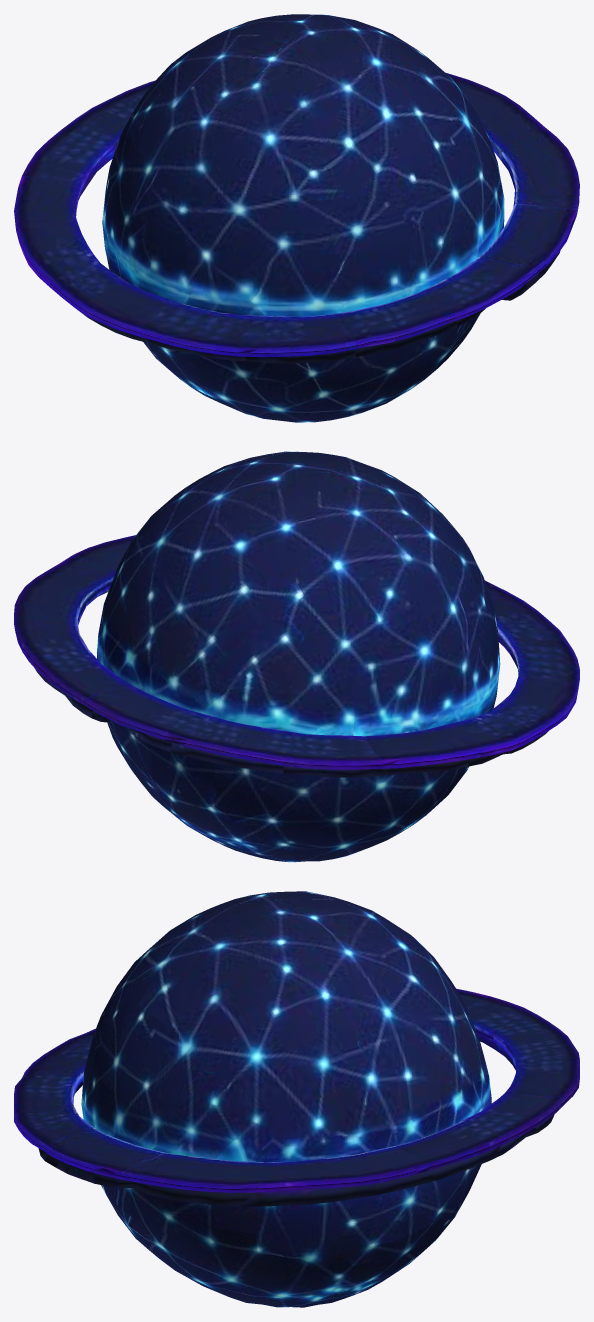
Rendered from 019fde7f-e903-73d5-97ff-ed94cdcacd2e.glb.
The picture shows the model from 3 angles, top to bottom: view 1: azimuth 30°, elevation 25°; view 2: azimuth 150°, elevation 25°; view 3: azimuth 270°, elevation 25°; orthographic projection.
Parts seen in each view (by area): view 1: mesh_node; view 2: mesh_node; view 3: mesh_node.
Boxes of the visible parts, x1=… form: mesh_node: x1=14, y1=14, x2=579, y2=422; mesh_node: x1=14, y1=451, x2=579, y2=862; mesh_node: x1=14, y1=891, x2=579, y2=1307.
Size of the model in its own units: 1 by 0.7402 by 1.
1 material, 1 textured.
